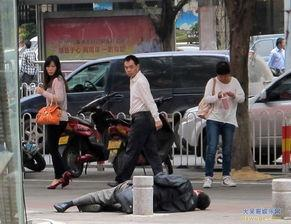down: (48, 167, 217, 218)
up: (107, 49, 173, 187), (28, 48, 79, 190), (195, 56, 248, 190)
